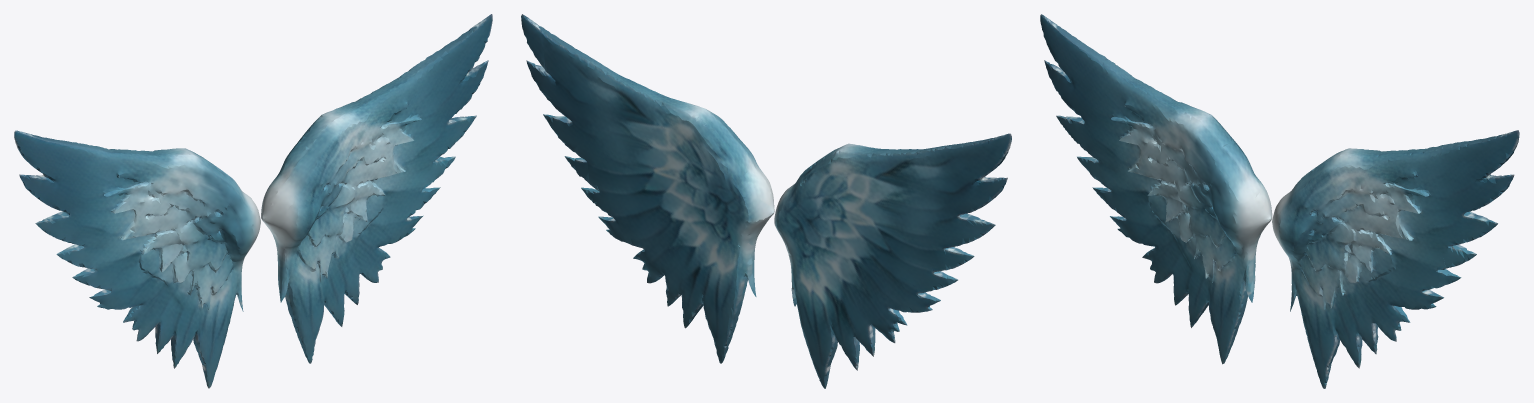
The model's file is nova_wing_R.glb.
The picture shows the model from 3 angles, left to right: view 1: azimuth 30°, elevation 25°; view 2: azimuth 150°, elevation 25°; view 3: azimuth 330°, elevation 25°; orthographic projection. The views are drawn at different scales.
Visible parts, largest first — view 1: nova_wing_R; view 2: nova_wing_R; view 3: nova_wing_R.
Boxes of the visible parts, bbox=[...] form: nova_wing_R: bbox=[14, 14, 492, 388]; nova_wing_R: bbox=[521, 14, 1011, 388]; nova_wing_R: bbox=[1040, 14, 1519, 388].
Size of the model in its own units: 1.9 by 1.13 by 0.1849.
1 material, 1 textured.
